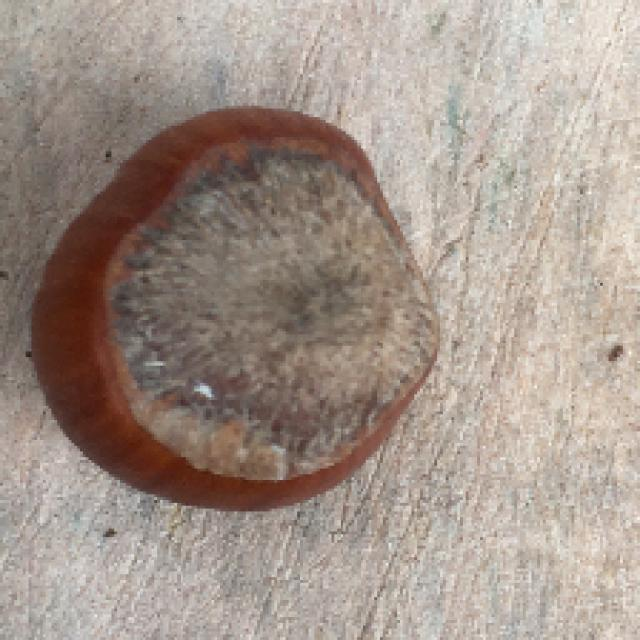qualityHazelnut: (15, 102, 448, 510)
